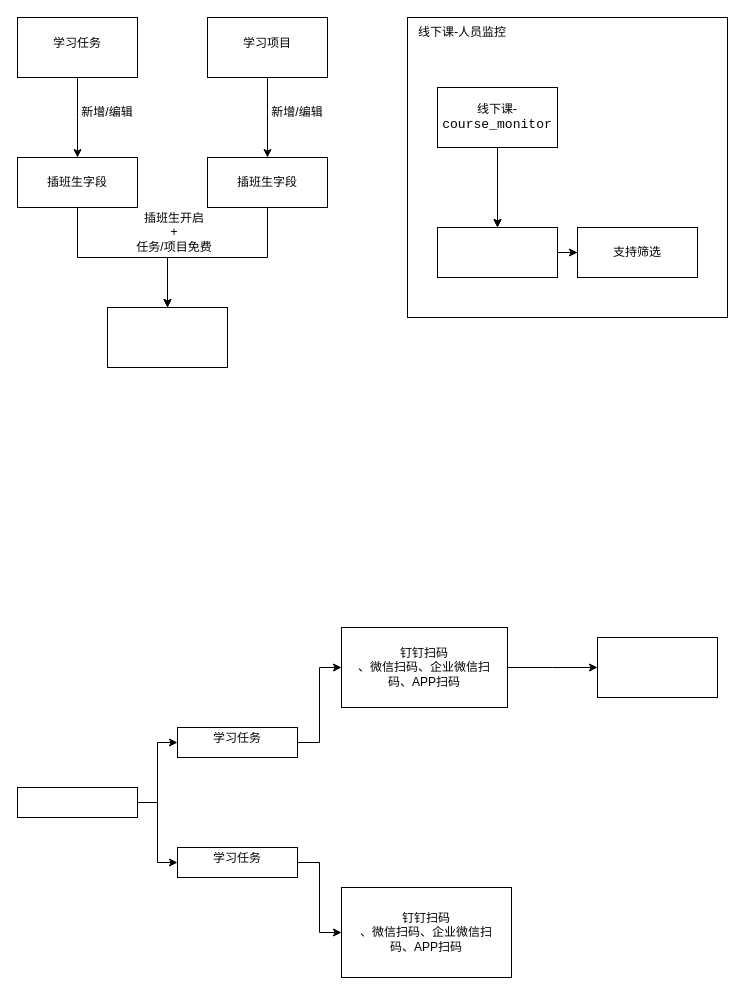
Some shapes in this 745 by 995 pixel diagram are drawn without their labels. The centre of each missing label's shape, as x and y in pixels:
参与方式 ： 指派、可见、报名、插班: the point at 497,252
扫描考勤二维码: the point at 77,802
批量补录: the point at 167,337
